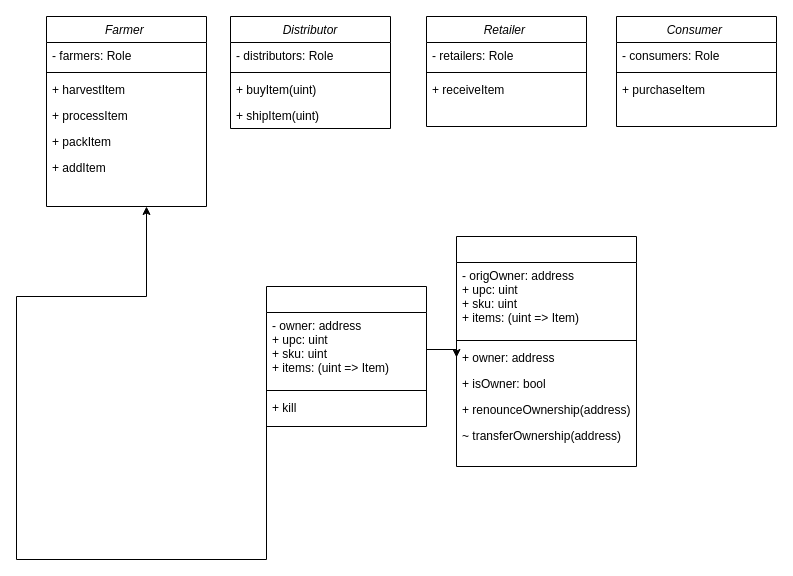
Some shapes in this 793 by 576 pixel diagram are drawn without their labels. The shapes that lost their labels are listed below. From the top down, each one's box as (x1, y1, x2, y2) in pixels, then its label:
(266, 286, 426, 426): SupplyChain
(456, 236, 636, 466): Ownable
